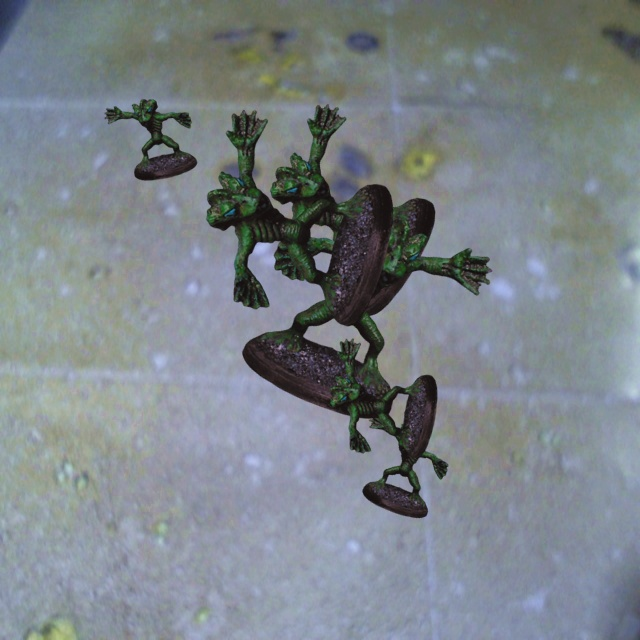pieza_juego: (242, 214, 491, 418), (206, 110, 392, 325), (270, 104, 434, 315), (329, 338, 437, 458), (362, 412, 448, 517), (104, 99, 196, 180)
